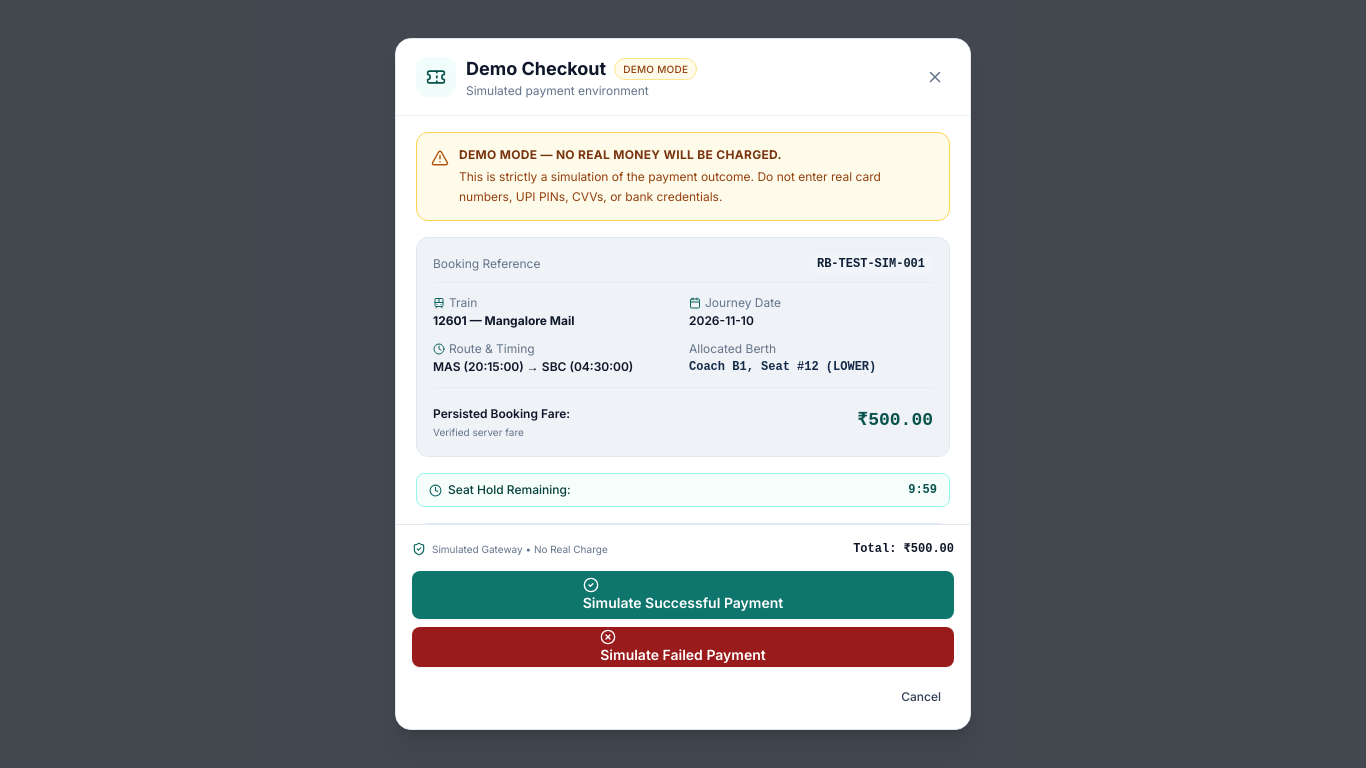
Test case: SimulatedCheckoutModal › handles simulated successful payment and displays confirmation screen with PNR
Click the button "Simulate Successful Payment". click: (683, 595)
box: [412,571,954,619]
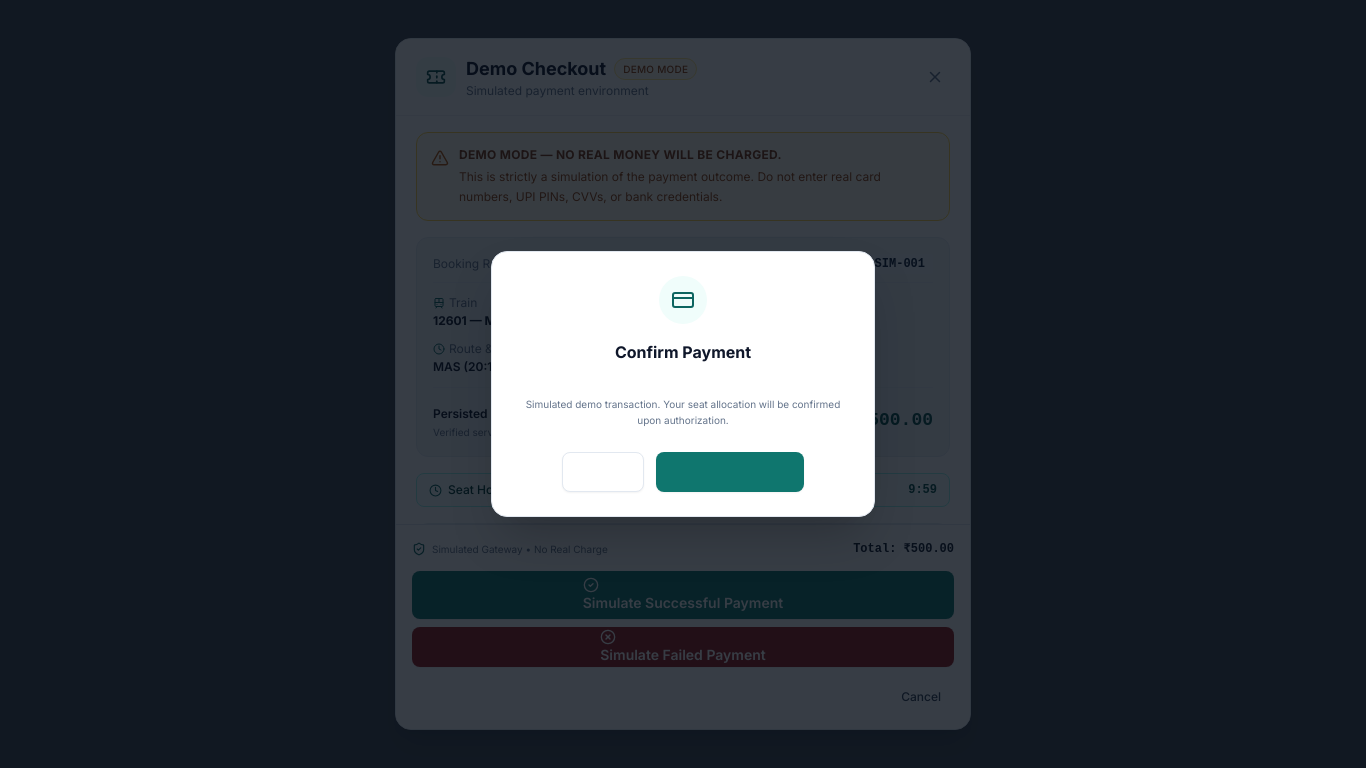
Click the button "OK, Pay ₹500.00". click: (730, 472)
box: [656,452,804,492]
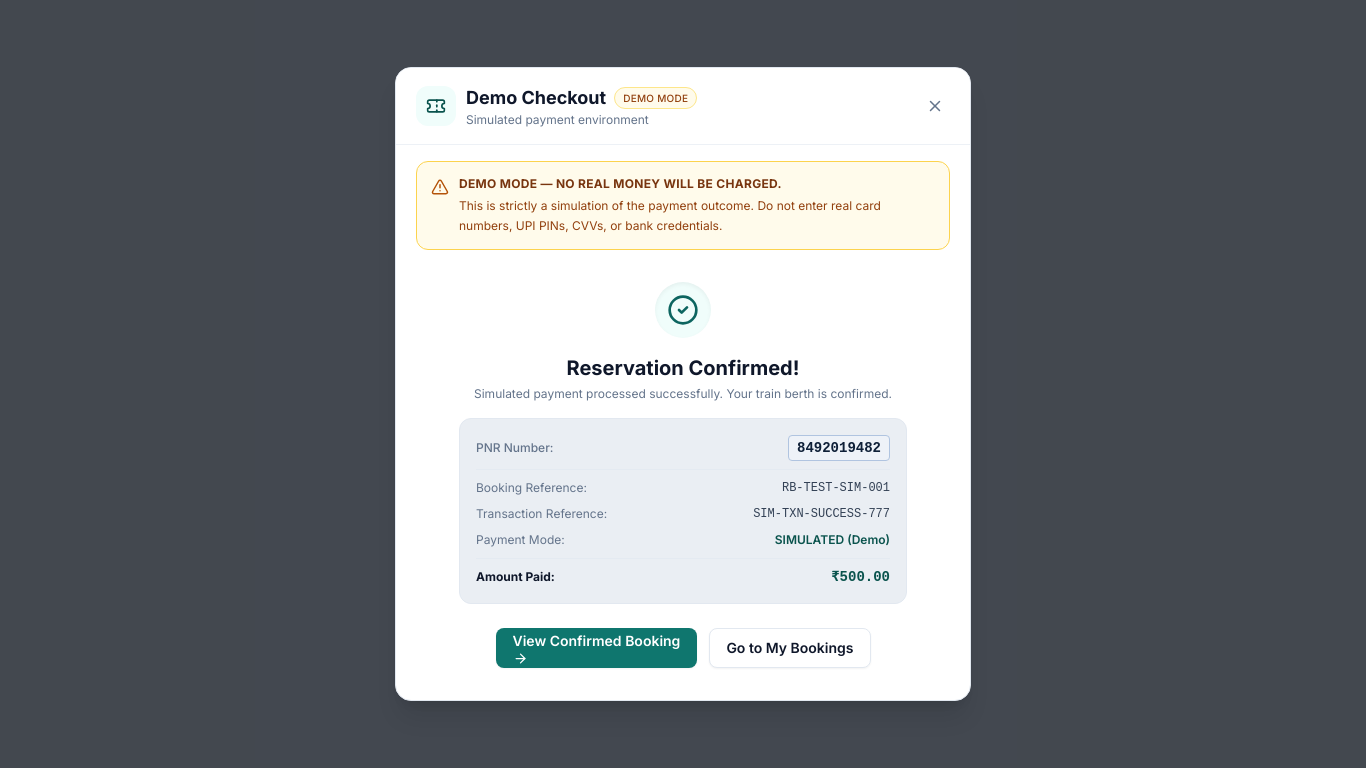
Now the heading "Reservation Confirmed!" is shown, box [567,356,800,380]
Now the text "8492019482" is shown, box [788,435,890,461]
Now the text "SIM-TXN-SUCCESS-777" is shown, box [753,506,890,522]
